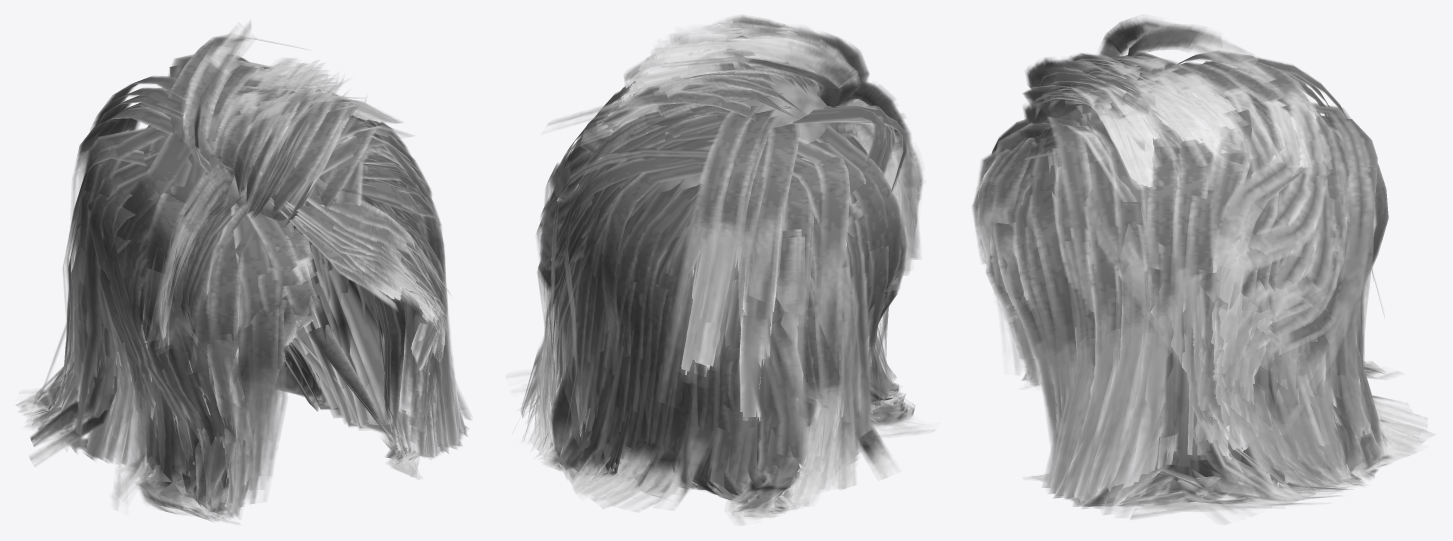
File: daz_hair_o4saken_long.glb
3 views of the same model, side by side, from view 1: azimuth 30°, elevation 25°; view 2: azimuth 150°, elevation 25°; view 3: azimuth 270°, elevation 25° (orthographic). The views are drawn at different scales.
Parts seen in each view (by area): view 1: daz_hair_o4saken_long; view 2: daz_hair_o4saken_long; view 3: daz_hair_o4saken_long.
Part boxes in pixels (left/top/right/bottom): daz_hair_o4saken_long: left=16, top=21, right=470, bottom=524; daz_hair_o4saken_long: left=506, top=14, right=939, bottom=525; daz_hair_o4saken_long: left=972, top=17, right=1435, bottom=524.
Size of the model in its own units: 0.2869 by 0.2764 by 0.2836.
1 material, 1 textured.
